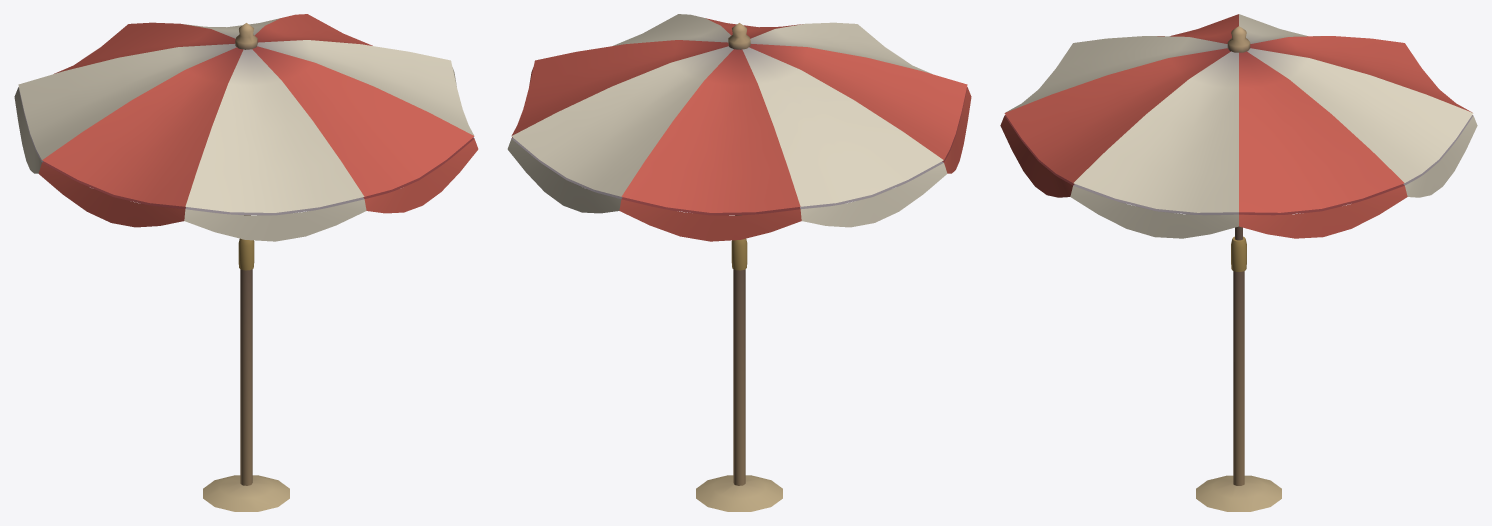
Rendered from Parasol.fbx.
3 renders of one model, left to right at view 1: azimuth 30°, elevation 25°; view 2: azimuth 150°, elevation 25°; view 3: azimuth 270°, elevation 25°, orthographic.
Visible parts, largest first — view 1: Parasol; view 2: Parasol; view 3: Parasol.
Part boxes in pixels (box(x1,y1,x2,y2)): Parasol: box(14, 14, 478, 511); Parasol: box(507, 14, 971, 511); Parasol: box(1000, 14, 1477, 511).
Bounding box in the file's own units: 2.14 × 2.35 × 2.14.
